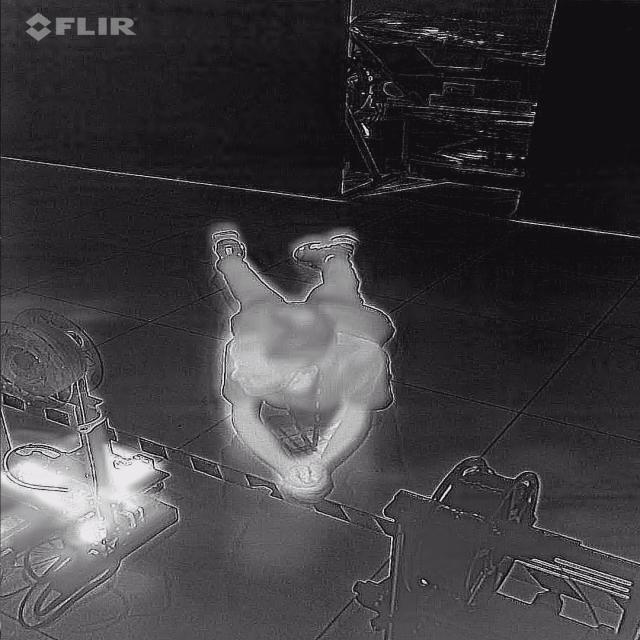Victim: (192, 215, 427, 504)
